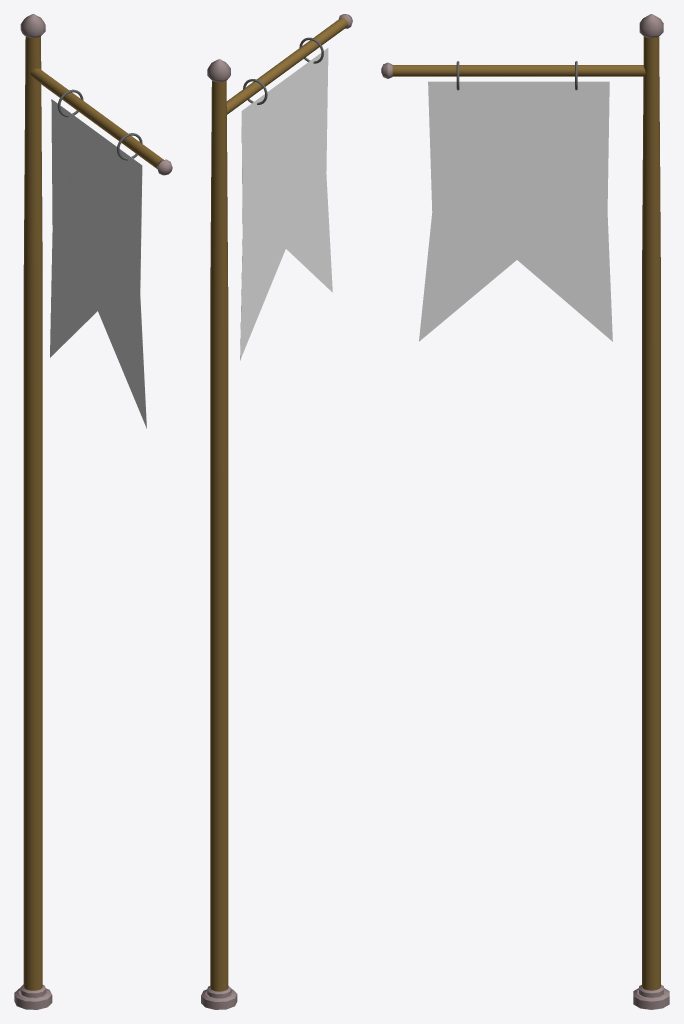
File: 9ebdc5bf-733b-41f1-a521-17480e0e4fce.glb
3 views of the same model, side by side, from view 1: azimuth 30°, elevation 25°; view 2: azimuth 150°, elevation 25°; view 3: azimuth 270°, elevation 25° (orthographic). The views are drawn at different scales.
Visible parts, largest first — view 1: Box001, Tube001, Tube002, ChamferCyl002, ChamferCyl003; view 2: Box001, Tube001, Tube002, ChamferCyl002, ChamferCyl003; view 3: Box001, Tube001, Tube002.
Part boxes in pixels (<box>): Box001: <box>50,99,146,428</box>; Tube001: <box>23,36,42,990</box>; Tube002: <box>30,68,163,168</box>; ChamferCyl002: <box>14,988,52,1009</box>; ChamferCyl003: <box>20,14,45,37</box>; Box001: <box>240,48,332,360</box>; Tube001: <box>210,80,228,991</box>; Tube002: <box>226,18,347,114</box>; ChamferCyl002: <box>201,989,237,1009</box>; ChamferCyl003: <box>207,59,230,82</box>; Box001: <box>419,81,612,341</box>; Tube001: <box>642,36,660,990</box>; Tube002: <box>392,65,645,76</box>.
Size of the model in its own units: 2.58 by 73.53 by 19.44.
